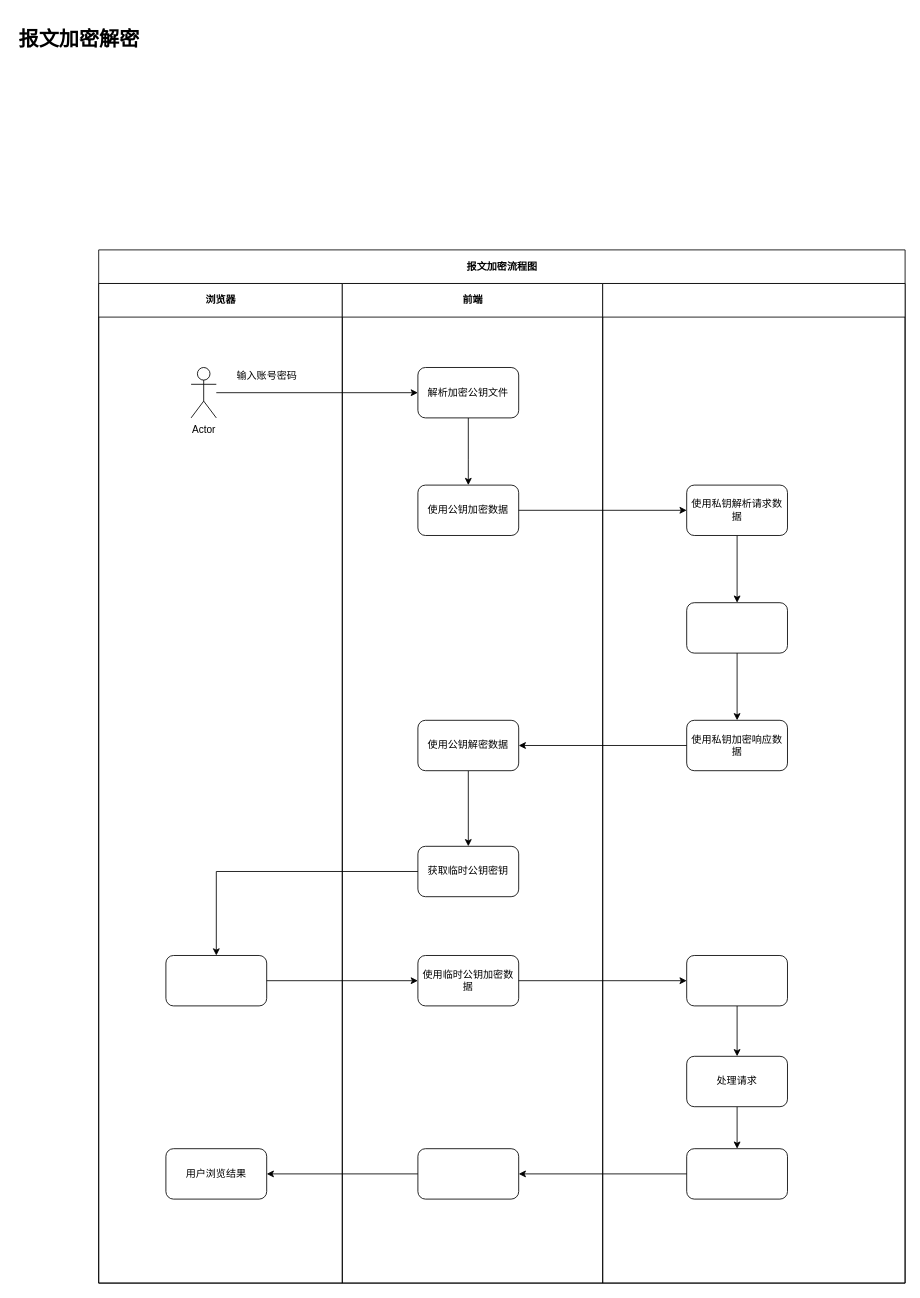
The diagram is 920 pixels wide and 1298 high, and some of its shapes have lost their labels. Here are the shapes that lost their labels. From the top down, the box of each, then its label:
(686, 602, 788, 653): 验证账号密码
(602, 283, 905, 1283): 后端
(165, 955, 267, 1006): 用户操作
(686, 955, 788, 1006): 使用临时私钥解析请求数据
(417, 1148, 519, 1199): 使用临时公钥解析数据
(686, 1148, 788, 1199): 使用临时私钥加密响应数据
